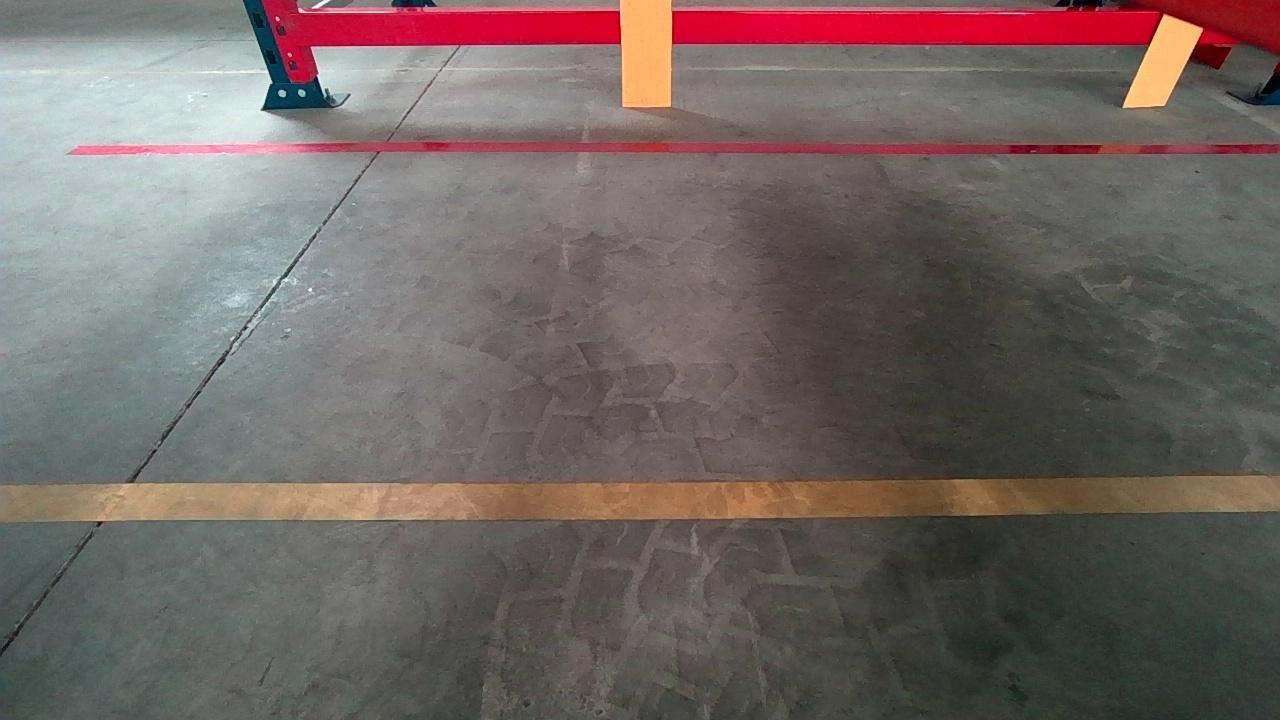h_rack: (298, 11, 1249, 45)
orange_strip: (1122, 13, 1205, 105), (621, 0, 674, 105)
red_line: (69, 139, 1280, 157)
